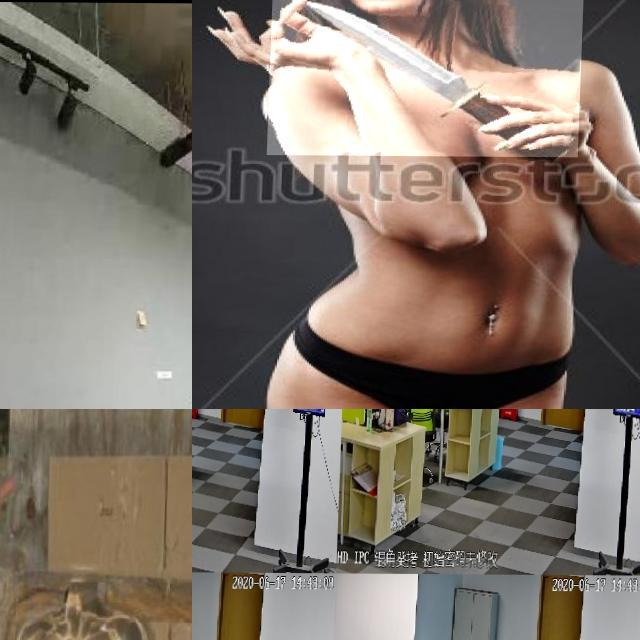-: (269, 0, 584, 156), (0, 409, 35, 531)
gun-knife-thesis - v11 Yolov5 augmented: (387, 409, 419, 432), (192, 409, 209, 441)
